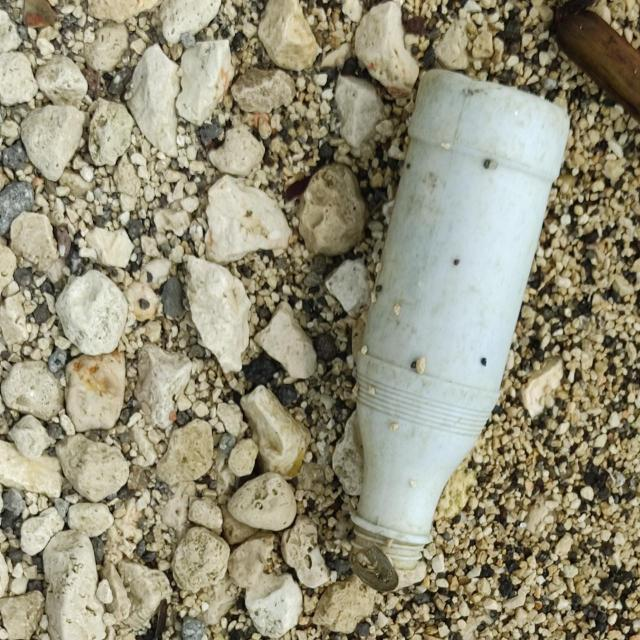plastic_waste: (347, 67, 574, 573)
